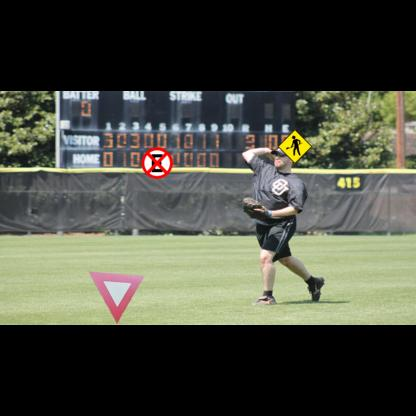A-24: (278, 129, 312, 164)
R-2: (89, 271, 144, 324)
R-6c: (141, 147, 173, 179)
